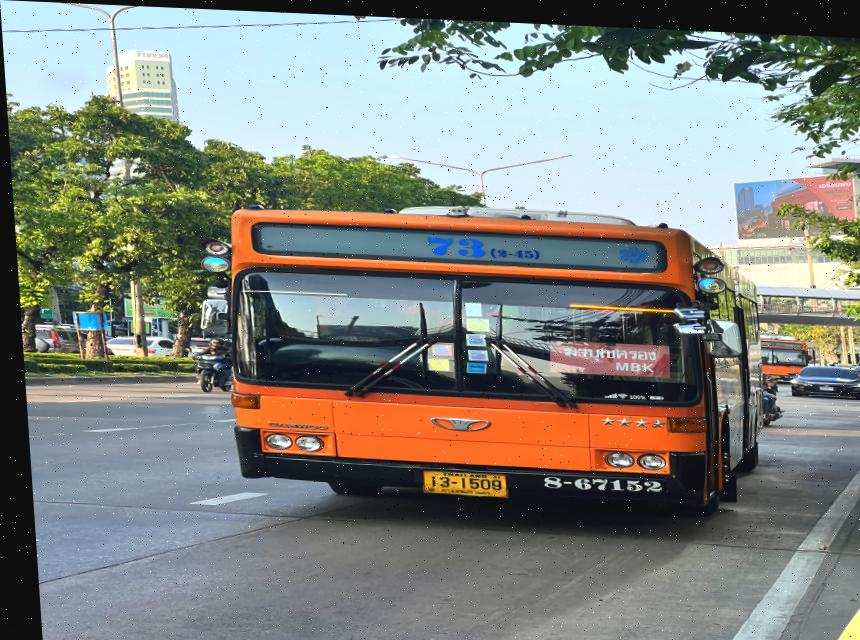BMTA-bus: (219, 206, 752, 508), (756, 326, 816, 384)
Bus Line Number: (410, 229, 547, 260)
Bus Side Number: (533, 468, 663, 492)
Destination Sign: (543, 334, 668, 371)
